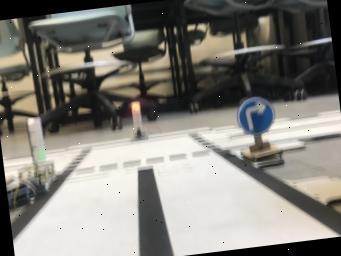right: (237, 95, 284, 168), (237, 95, 284, 168), (237, 95, 284, 168), (237, 95, 284, 168), (237, 95, 284, 168), (237, 95, 284, 168)
street: (10, 127, 341, 256), (10, 127, 341, 256), (10, 127, 341, 256), (10, 127, 341, 256), (10, 127, 341, 256), (10, 127, 341, 256)
traffic_light: (18, 116, 56, 195), (18, 116, 56, 195), (18, 116, 56, 195), (18, 116, 56, 195), (18, 116, 56, 195), (18, 116, 56, 195), (130, 100, 148, 140), (130, 100, 148, 140), (130, 100, 148, 140), (130, 100, 148, 140), (130, 100, 148, 140), (130, 100, 148, 140)
